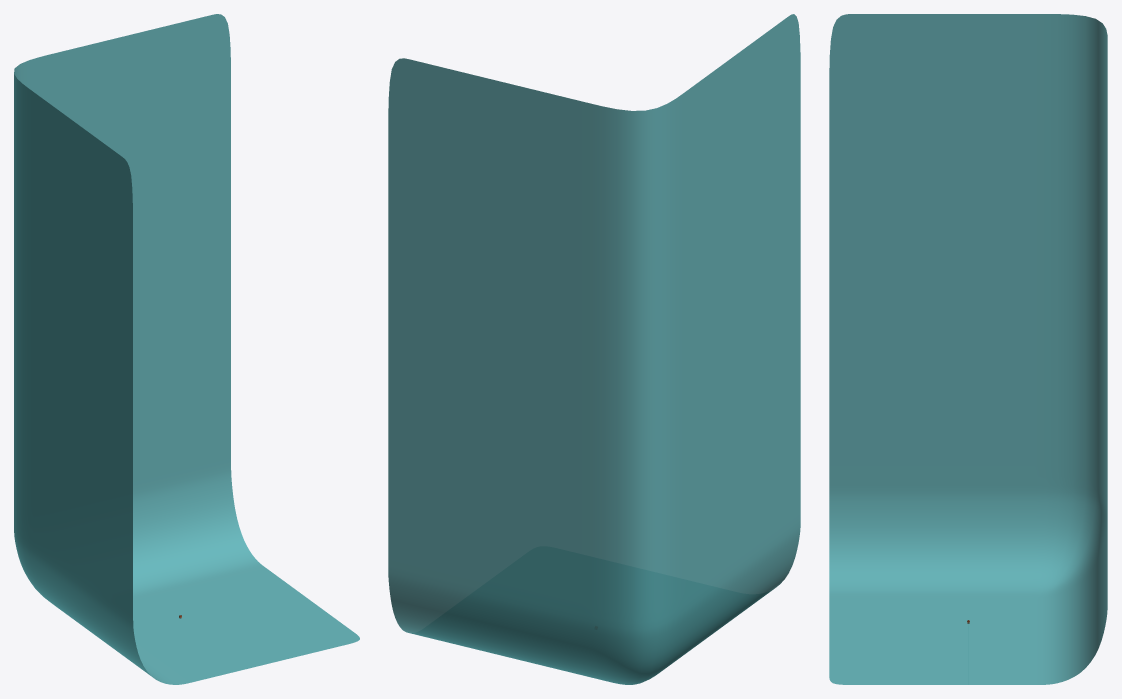
The model's file is HutOnIsland.fbx.
The picture shows the model from 3 angles, left to right: view 1: azimuth 30°, elevation 25°; view 2: azimuth 150°, elevation 25°; view 3: azimuth 270°, elevation 25°; orthographic projection. The views are drawn at different scales.
Parts seen in each view (by area): view 1: Plane.008; view 2: Plane.008; view 3: Plane.008.
Boxes of the visible parts, x1=… form: Plane.008: x1=14, y1=14, x2=359, y2=684; Plane.008: x1=388, y1=14, x2=800, y2=684; Plane.008: x1=829, y1=14, x2=1107, y2=684.
Bounding box in the file's own units: 26786 × 58748 × 26786.
